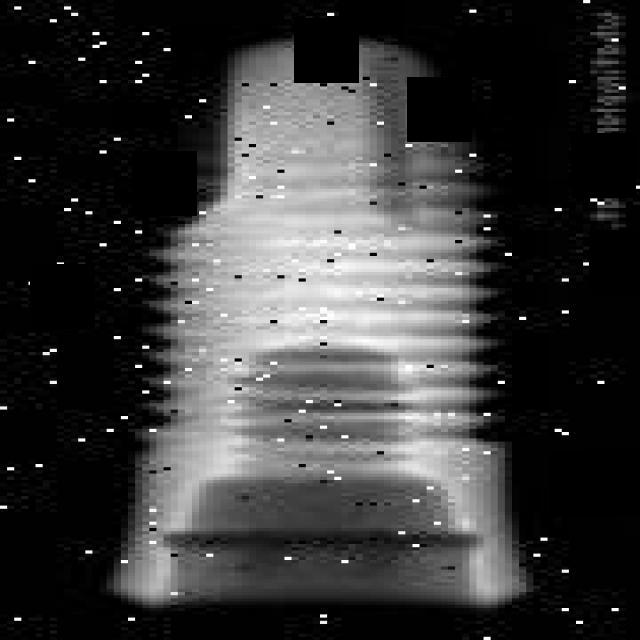OCO Biomedical Implant: (100, 29, 540, 611)
